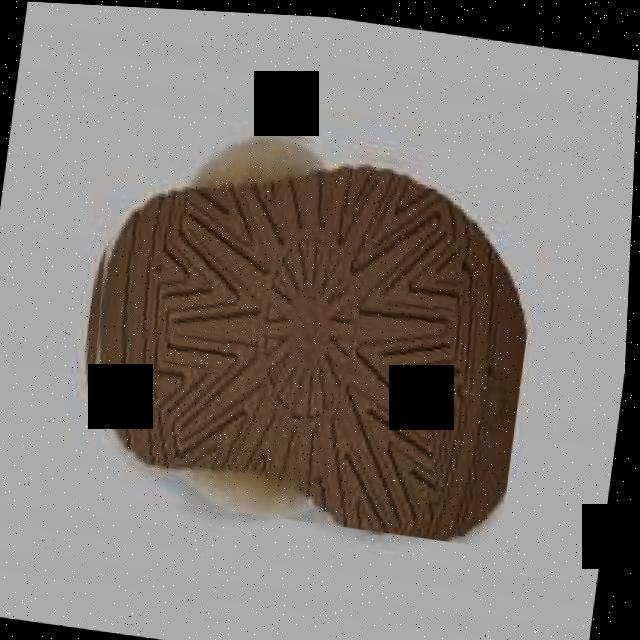shoe: (99, 132, 529, 535)
